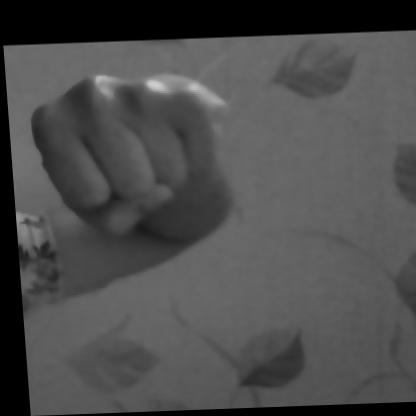fist: (4, 56, 261, 333)
